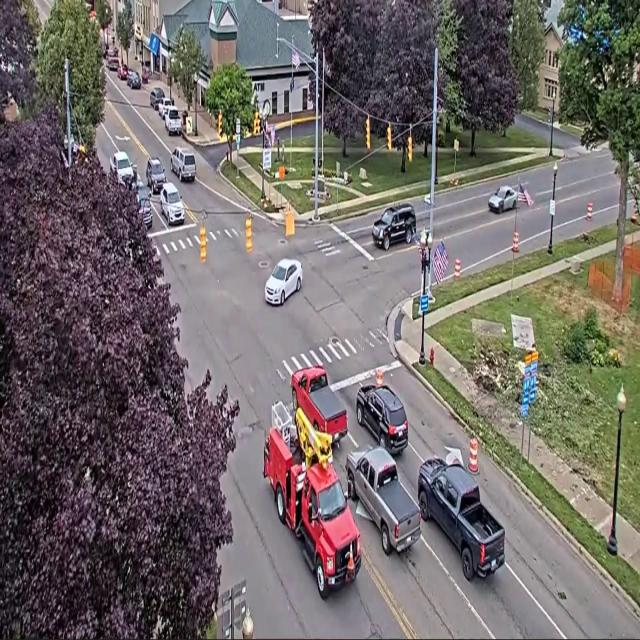car: (356, 384, 408, 454), (372, 204, 416, 250), (265, 258, 302, 304), (160, 183, 184, 225), (171, 147, 196, 182), (136, 179, 152, 229), (488, 186, 517, 213), (110, 152, 135, 183), (146, 158, 165, 193), (165, 107, 181, 135), (149, 87, 165, 110), (158, 96, 174, 119), (127, 71, 141, 88), (107, 56, 119, 71), (118, 64, 128, 79)
traffic signal: (246, 215, 252, 253), (200, 224, 206, 262), (253, 111, 260, 135), (386, 123, 392, 151), (366, 117, 370, 150), (408, 135, 412, 161), (218, 111, 222, 136), (548, 107, 552, 125)
truck: (264, 401, 361, 599), (418, 458, 504, 581), (346, 447, 420, 555), (291, 367, 347, 442)
